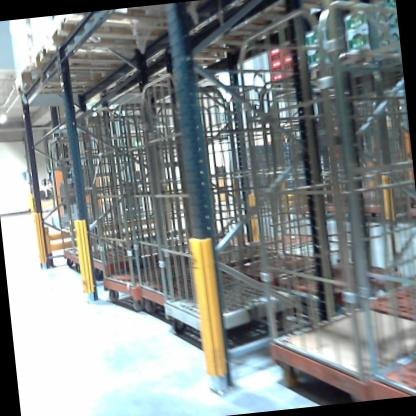forklift: (29, 56, 126, 232)
pallet: (11, 43, 175, 111), (40, 4, 207, 63), (11, 25, 176, 80)
